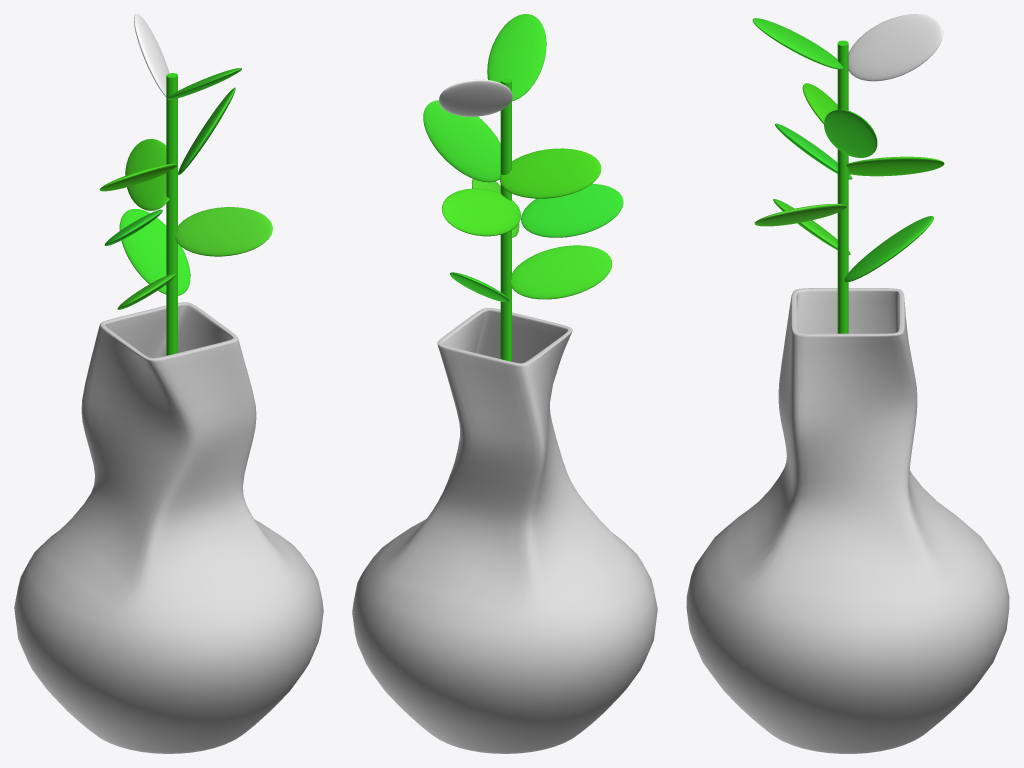
File: decorative-ceramic-vase2.gltf
3 renders of one model, left to right at view 1: azimuth 30°, elevation 25°; view 2: azimuth 150°, elevation 25°; view 3: azimuth 270°, elevation 25°, orthographic. The views are drawn at different scales.
Parts seen in each view (by area): view 1: decorative-ceramic-vase-005, SurfSphere.004, Cylinder, SurfSphere.001, SurfSphere, SurfSphere.008, SurfSphere.007, SurfSphere.005, SurfSphere.003, SurfSphere.002, SurfSphere.006; view 2: decorative-ceramic-vase-005, SurfSphere.006, SurfSphere.007, SurfSphere.005, SurfSphere.002, SurfSphere.003, SurfSphere, Cylinder, SurfSphere.008, SurfSphere.001; view 3: decorative-ceramic-vase-005, SurfSphere.008, Cylinder, SurfSphere.007, SurfSphere.001, SurfSphere, SurfSphere.003, SurfSphere.004, SurfSphere.002, SurfSphere.005, SurfSphere.006.
Part boxes in pixels (left/top/right/bottom): decorative-ceramic-vase-005: left=14, top=302, right=323, bottom=753; SurfSphere.004: left=175, top=207, right=272, bottom=256; Cylinder: left=166, top=73, right=177, bottom=355; SurfSphere.001: left=119, top=209, right=190, bottom=295; SurfSphere: left=125, top=139, right=169, bottom=210; SurfSphere.008: left=134, top=14, right=169, bottom=96; SurfSphere.007: left=178, top=87, right=235, bottom=175; SurfSphere.005: left=99, top=164, right=176, bottom=191; SurfSphere.003: left=167, top=68, right=241, bottom=99; SurfSphere.002: left=104, top=209, right=162, bottom=246; SurfSphere.006: left=117, top=273, right=175, bottom=309; decorative-ceramic-vase-005: left=352, top=308, right=657, bottom=753; SurfSphere.006: left=510, top=245, right=612, bottom=299; SurfSphere.007: left=423, top=100, right=500, bottom=182; SurfSphere.005: left=499, top=148, right=601, bottom=198; SurfSphere.002: left=521, top=183, right=623, bottom=237; SurfSphere.003: left=487, top=14, right=546, bottom=100; SurfSphere: left=442, top=188, right=520, bottom=236; Cylinder: left=500, top=78, right=511, bottom=361; SurfSphere.008: left=439, top=79, right=512, bottom=116; SurfSphere.001: left=450, top=272, right=509, bottom=302; decorative-ceramic-vase-005: left=686, top=288, right=1009, bottom=753; SurfSphere.008: left=848, top=14, right=943, bottom=81; Cylinder: left=837, top=40, right=848, bottom=333; SurfSphere.007: left=824, top=109, right=877, bottom=157; SurfSphere.001: left=844, top=216, right=933, bottom=282; SurfSphere: left=846, top=156, right=944, bottom=176; SurfSphere.003: left=752, top=18, right=843, bottom=69; SurfSphere.004: left=754, top=203, right=846, bottom=226; SurfSphere.002: left=775, top=123, right=852, bottom=179; SurfSphere.005: left=802, top=83, right=837, bottom=123; SurfSphere.006: left=773, top=199, right=850, bottom=254.
Bounding box in the file's own units: 0.0858 × 0.2077 × 0.0858.
